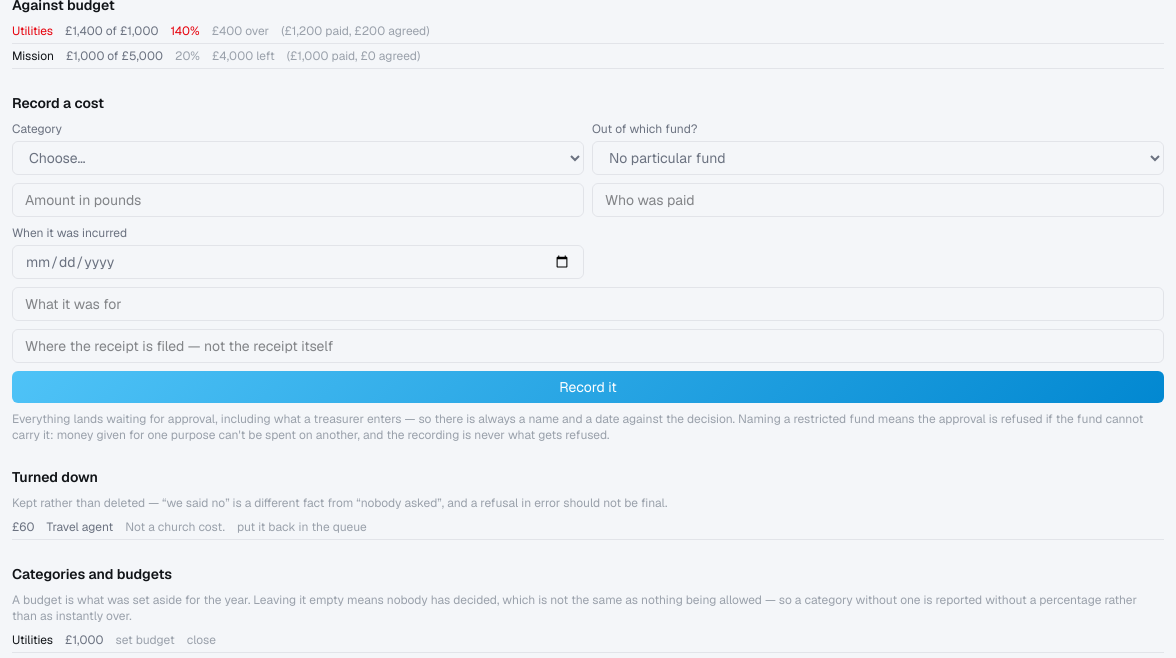
Scenario: categories and budgets › refuses a typo rather than quietly clearing the budget
(page scrolled)
Click the 1st button "set budget" at (145, 640), box [116, 632, 175, 648]
(page scrolled)
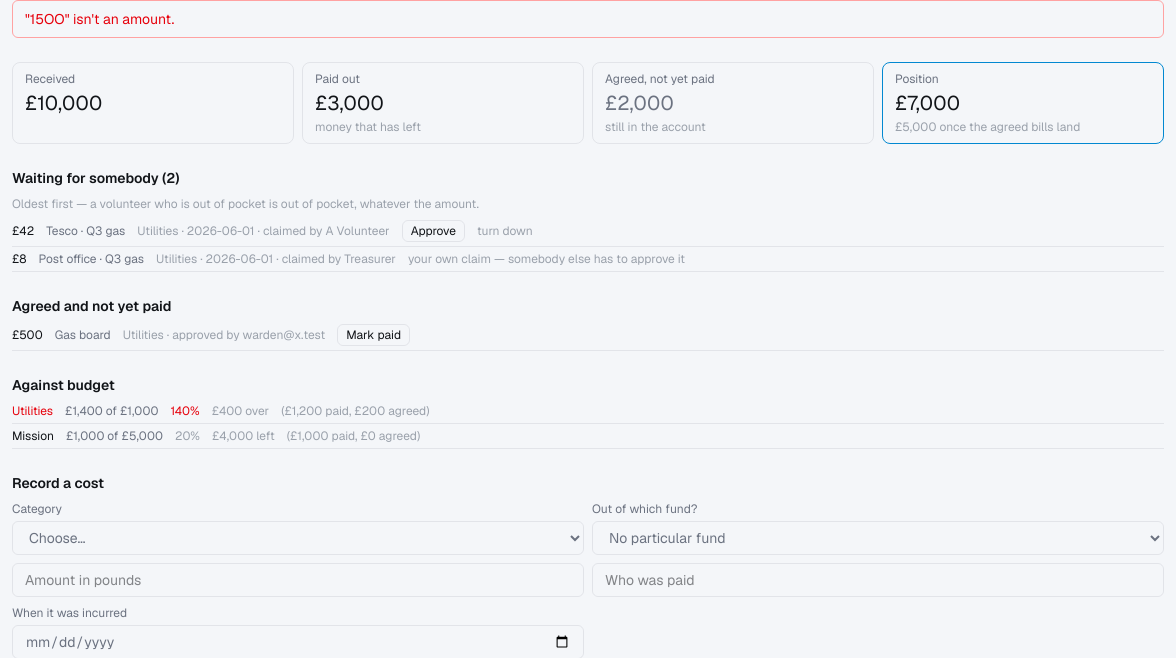
Result: the message shows "isn't an amount" at [25, 10, 174, 28]
